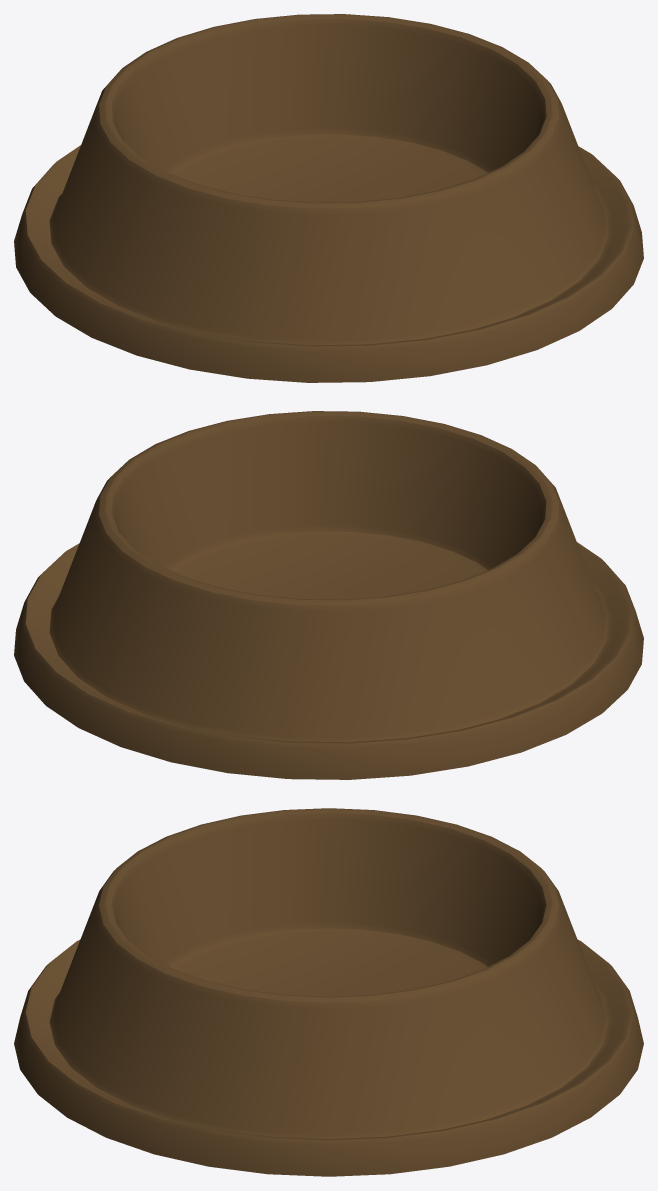
The model's file is DogBowl.fbx.
3 renders of one model, top to bottom at view 1: azimuth 30°, elevation 25°; view 2: azimuth 150°, elevation 25°; view 3: azimuth 270°, elevation 25°, orthographic.
Parts seen in each view (by area): view 1: Dog Bowl; view 2: Dog Bowl; view 3: Dog Bowl.
Part boxes in pixels (x1,y1,x2,y2): Dog Bowl: [14, 14, 643, 382]; Dog Bowl: [14, 411, 643, 779]; Dog Bowl: [14, 808, 643, 1176].
Bounding box in the file's own units: 505 × 124 × 505.
